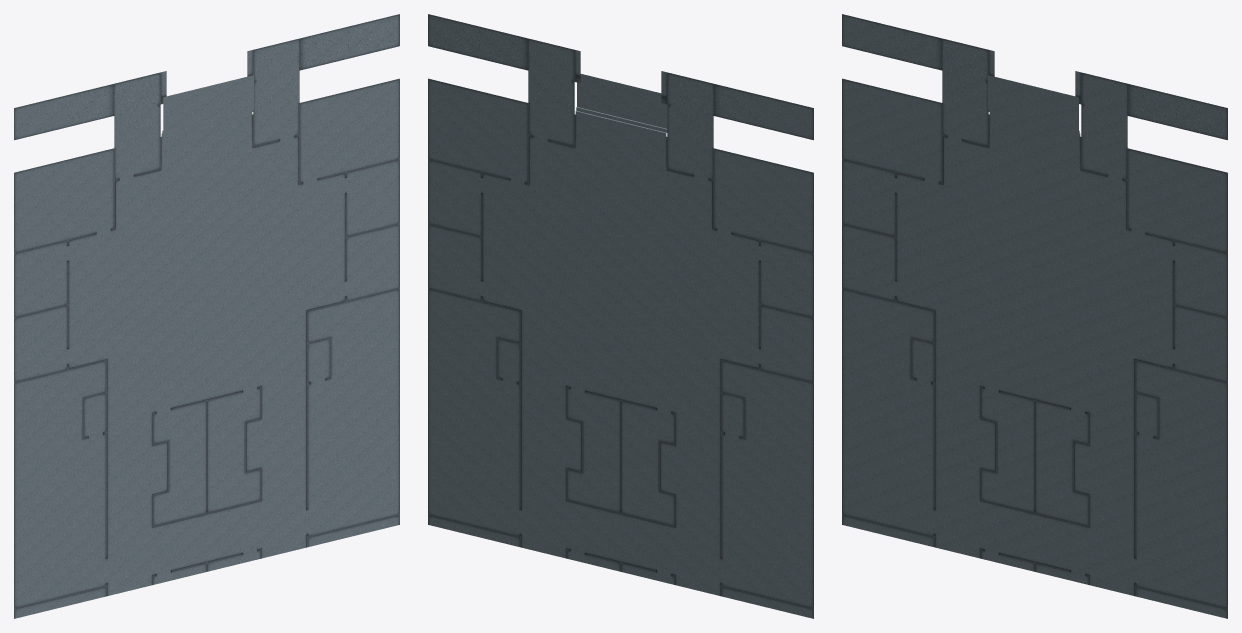
File: aws_robomaker_hospital_floor_03_floor_visual.dae
The picture shows the model from 3 angles, left to right: view 1: azimuth 30°, elevation 25°; view 2: azimuth 150°, elevation 25°; view 3: azimuth 330°, elevation 25°; orthographic projection.
Parts seen in each view (by area): view 1: aws_robomaker_hospital_floor_01_floor_visual; view 2: aws_robomaker_hospital_floor_01_floor_visual; view 3: aws_robomaker_hospital_floor_01_floor_visual.
Part boxes in pixels (bbox=[...]): aws_robomaker_hospital_floor_01_floor_visual: bbox=[14, 14, 399, 618]; aws_robomaker_hospital_floor_01_floor_visual: bbox=[428, 14, 813, 618]; aws_robomaker_hospital_floor_01_floor_visual: bbox=[842, 14, 1227, 618].
Size of the model in its own units: 25 by 0.1755 by 31.62.
Materials: 1 (1 with a texture image).
